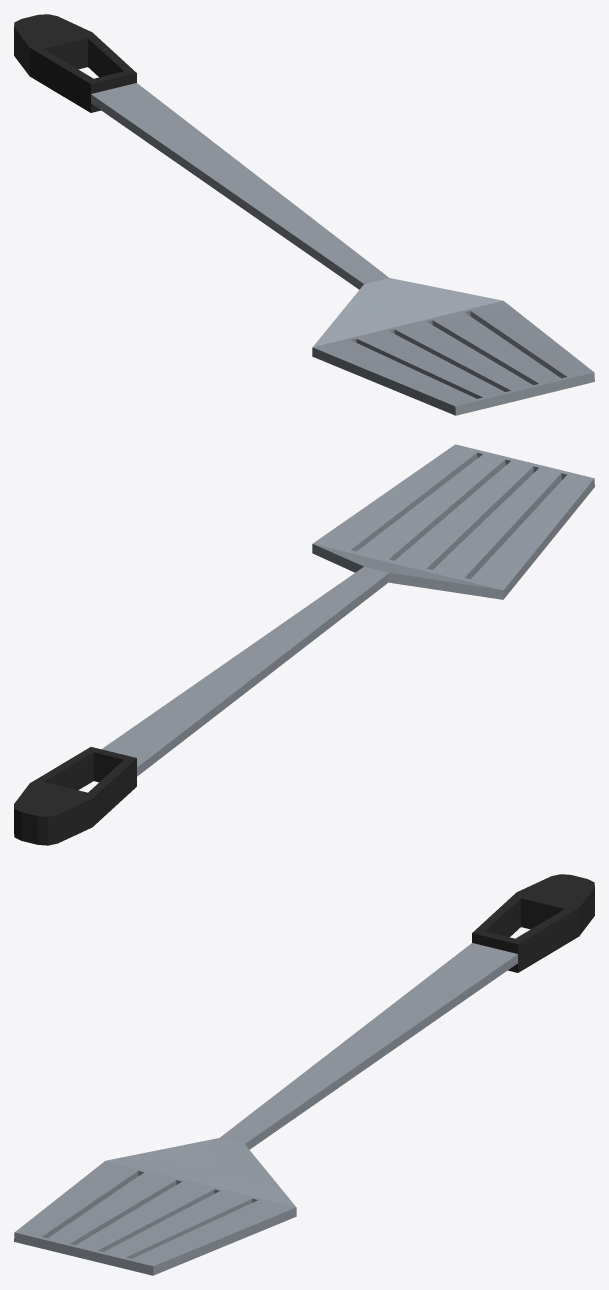
Rendered from Spatula_02.fbx.
The picture shows the model from 3 angles, top to bottom: view 1: azimuth 30°, elevation 25°; view 2: azimuth 150°, elevation 25°; view 3: azimuth 330°, elevation 25°; orthographic projection.
Parts seen in each view (by area): view 1: Spatula_02; view 2: Spatula_02; view 3: Spatula_02.
Boxes of the visible parts, <box> form: Spatula_02: <box>14,14,594,415</box>; Spatula_02: <box>14,444,594,845</box>; Spatula_02: <box>14,874,594,1275</box>.
Size of the model in its own units: 0.1099 by 0.0217 by 0.494.
